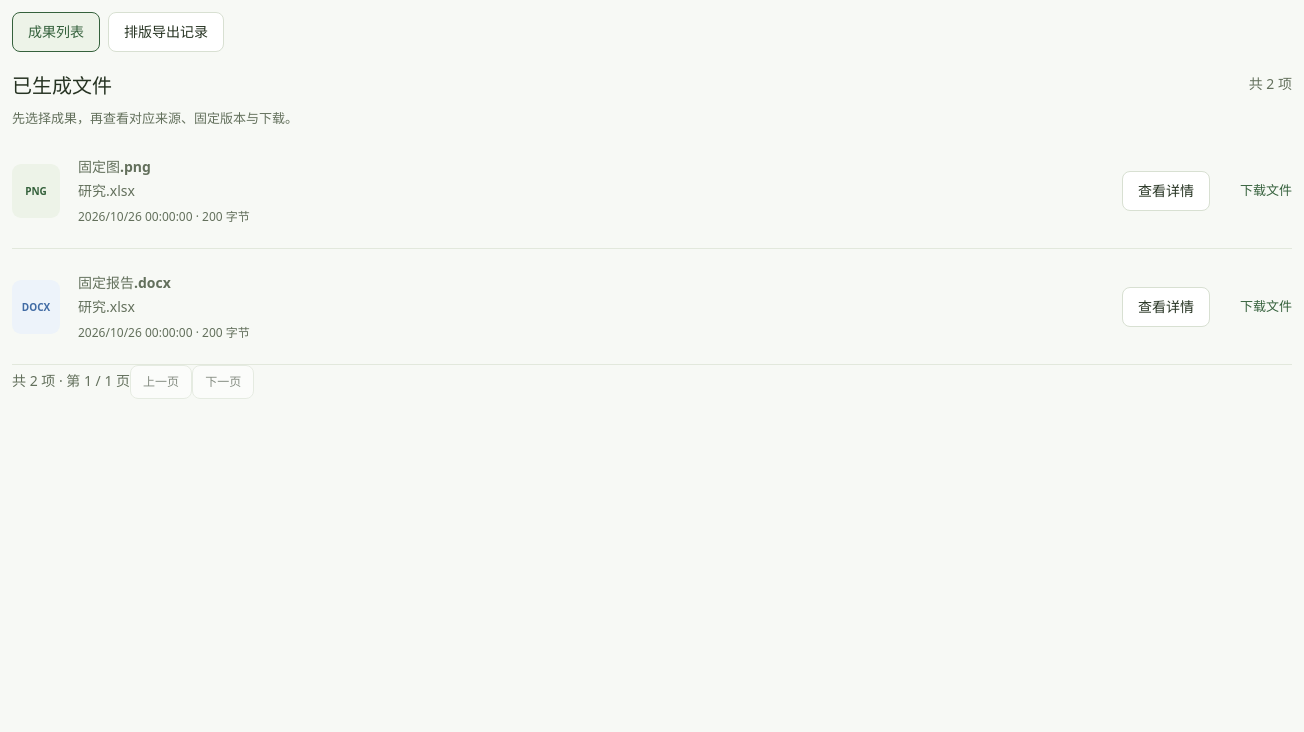
opens only the selected artifact and retains the historical run download
expect the element "成果详情" is not shown: met
Click the button with aria-label "查看成果 固定报告.docx" at (1166, 307), box [1122,287,1210,327]
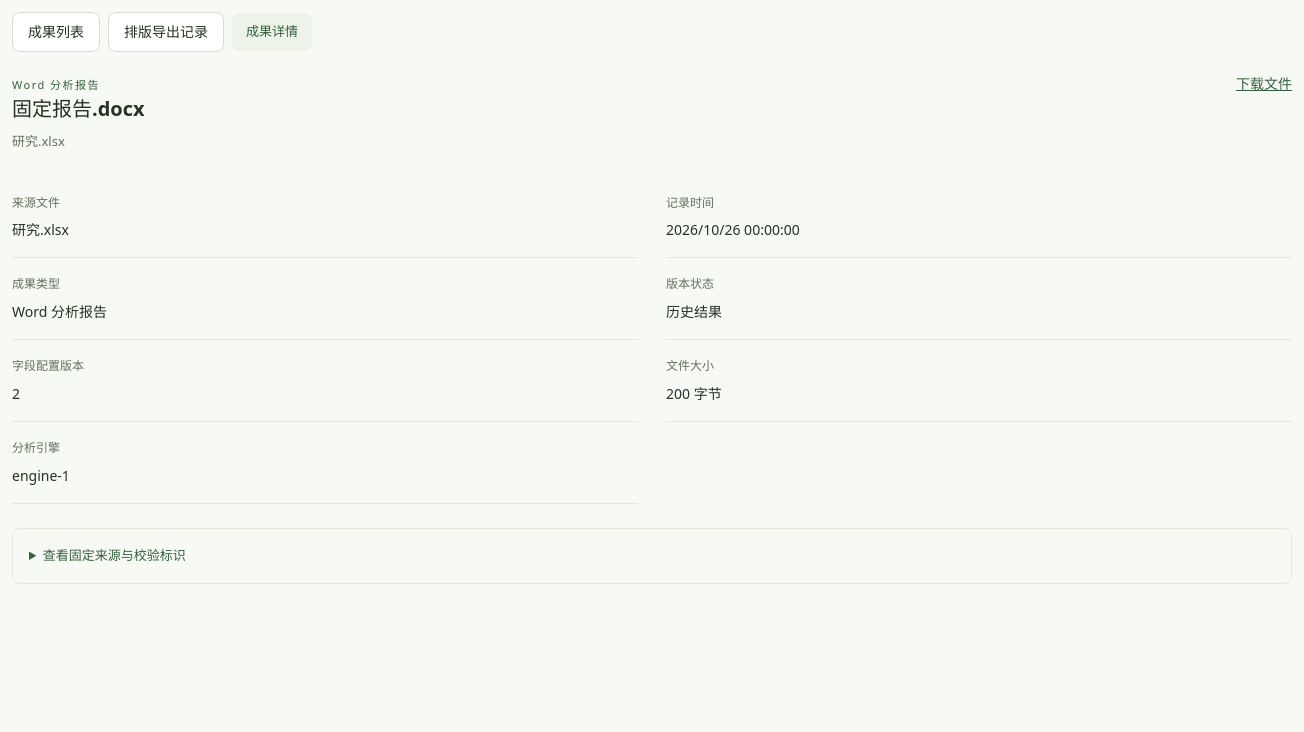
expect the element named "成果详情" shows "历史结果": met, box [666,302,722,321]
Click the button "成果列表" at (56, 32), box [12,12,100,52]
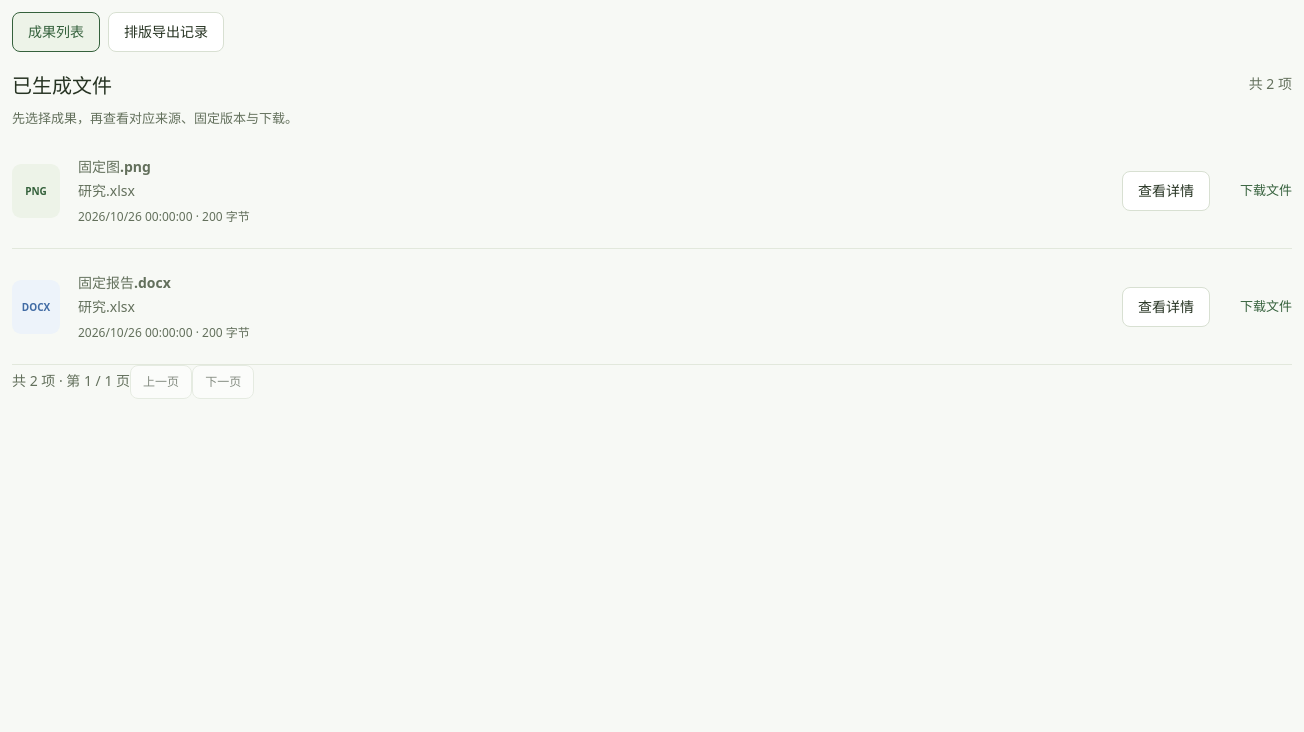
expect the button with aria-label "查看成果 固定图.png" is shown: met, box [1122,171,1210,211]
Click the button "排版导出记录" at (166, 32), box [108,12,224,52]
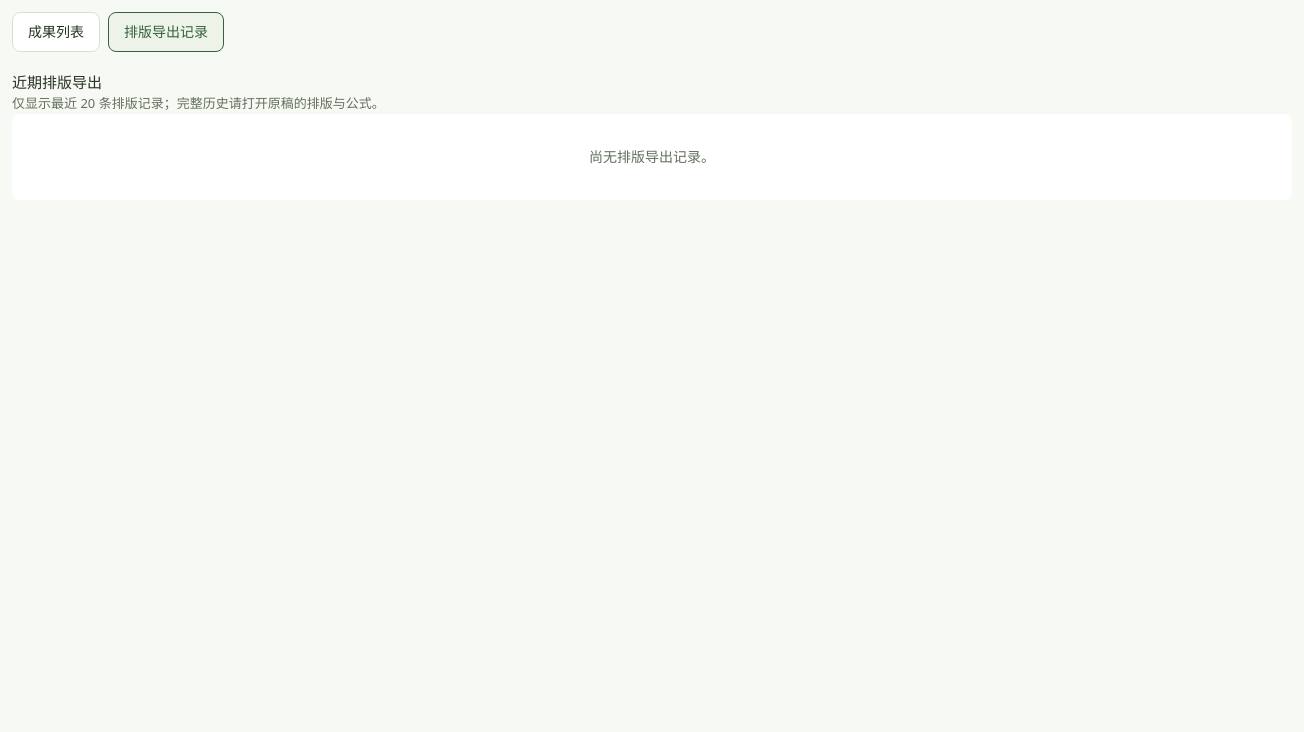
expect the text "尚无排版导出记录。" is shown: met, box [12,114,1292,200]
